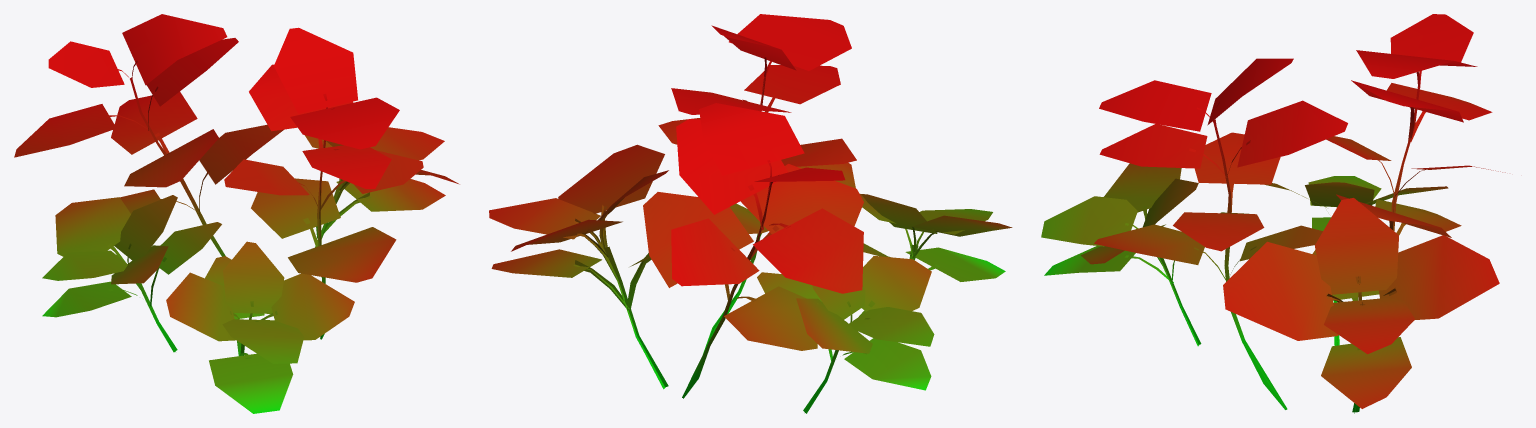
Rendered from vegetation_3.fbx.
3 views of the same model, side by side, from view 1: azimuth 30°, elevation 25°; view 2: azimuth 150°, elevation 25°; view 3: azimuth 270°, elevation 25° (orthographic). The views are drawn at different scales.
Parts seen in each view (by area): view 1: _fl0p_Var12_; view 2: _fl0p_Var12_; view 3: _fl0p_Var12_.
Part boxes in pixels (left/top/right/bottom): _fl0p_Var12_: left=14, top=14, right=459, bottom=413; _fl0p_Var12_: left=489, top=14, right=1012, bottom=413; _fl0p_Var12_: left=1041, top=14, right=1505, bottom=413.
Bounding box in the file's own units: 9.25 × 6.84 × 8.81.
